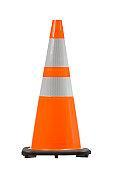Cone: (21, 19, 92, 158)
